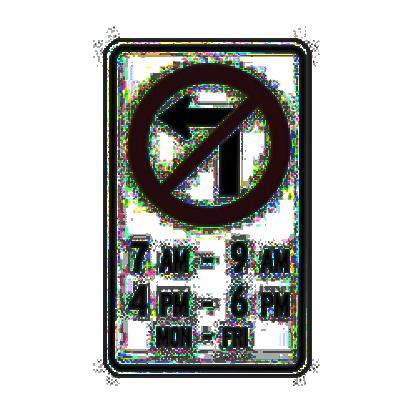No left turn: (112, 44, 301, 228)
